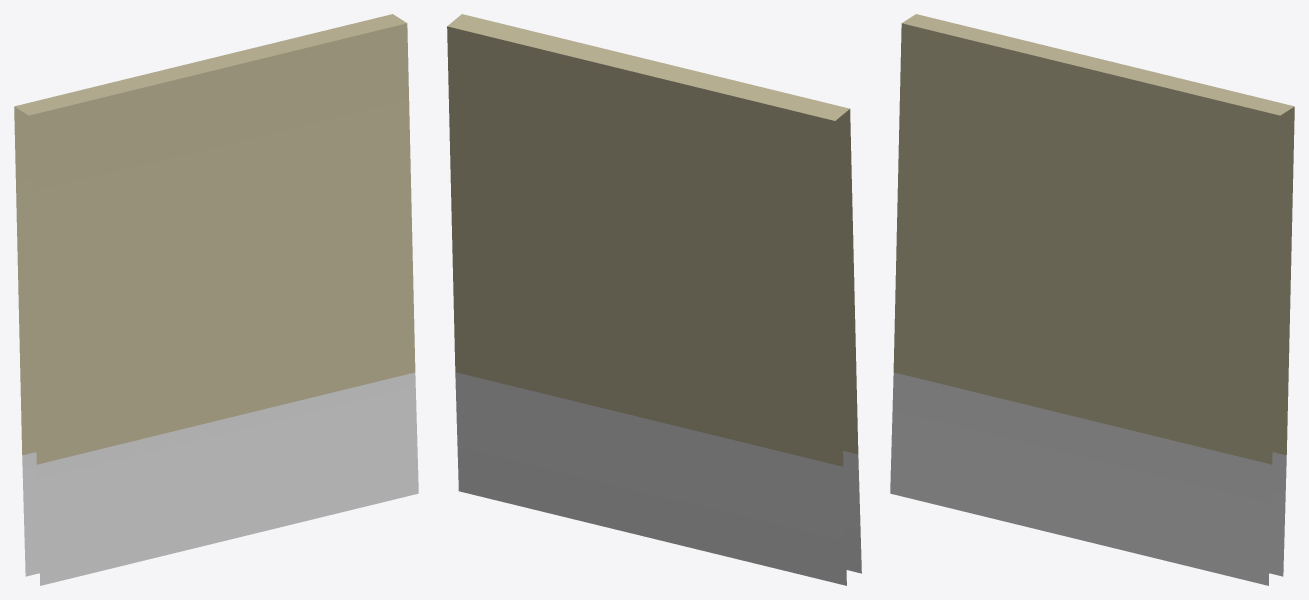
File: Wall.fbx
The picture shows the model from 3 angles, left to right: view 1: azimuth 30°, elevation 25°; view 2: azimuth 150°, elevation 25°; view 3: azimuth 330°, elevation 25°; orthographic projection. The views are drawn at different scales.
Parts seen in each view (by area): view 1: pCube2; view 2: pCube2; view 3: pCube2.
Boxes of the visible parts, box(x1,y1,x2,y2) form: pCube2: box(14, 14, 418, 585); pCube2: box(447, 14, 861, 585); pCube2: box(890, 14, 1294, 585).
Size of the model in its own units: 300 by 351 by 35.67.
